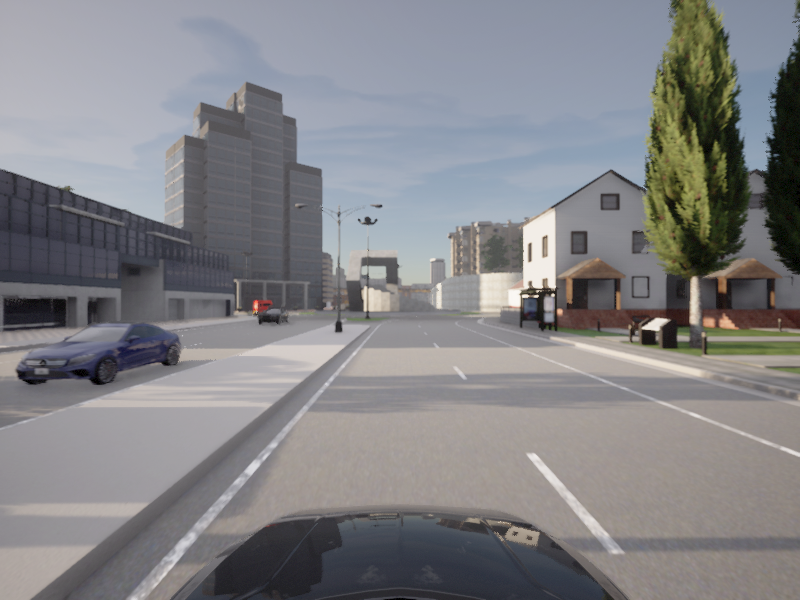vehicle: (1, 319, 190, 392), (254, 306, 290, 325)
